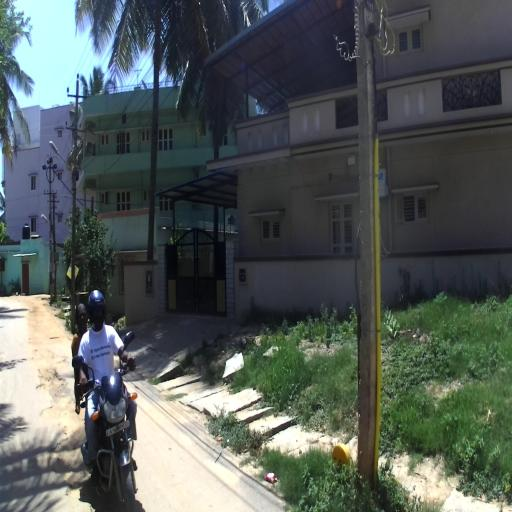street_light_0: (49, 140, 76, 194), (41, 214, 50, 225)
